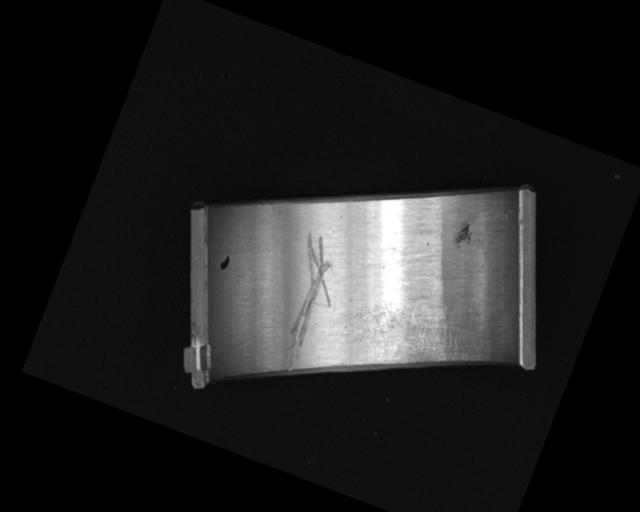blot: (218, 252, 232, 271)
bruise: (451, 219, 478, 250)
nick: (258, 229, 352, 378)
scratch: (347, 274, 487, 395)
